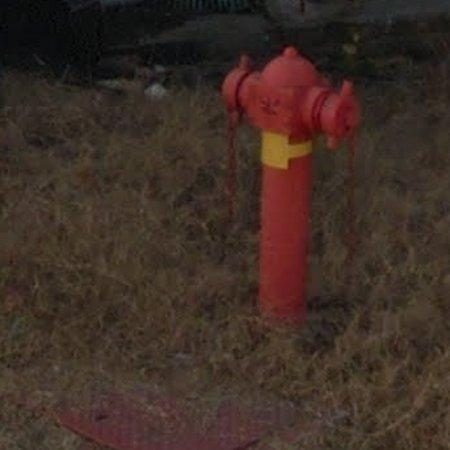a fire hydrant: (222, 46, 362, 324)
